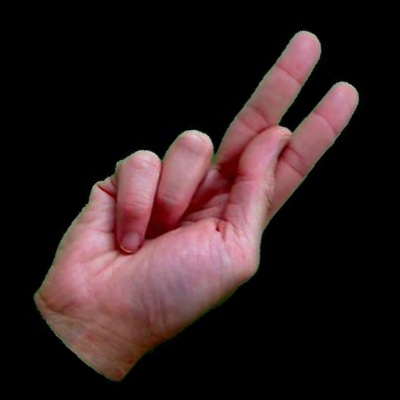k: (1, 1, 398, 394)
